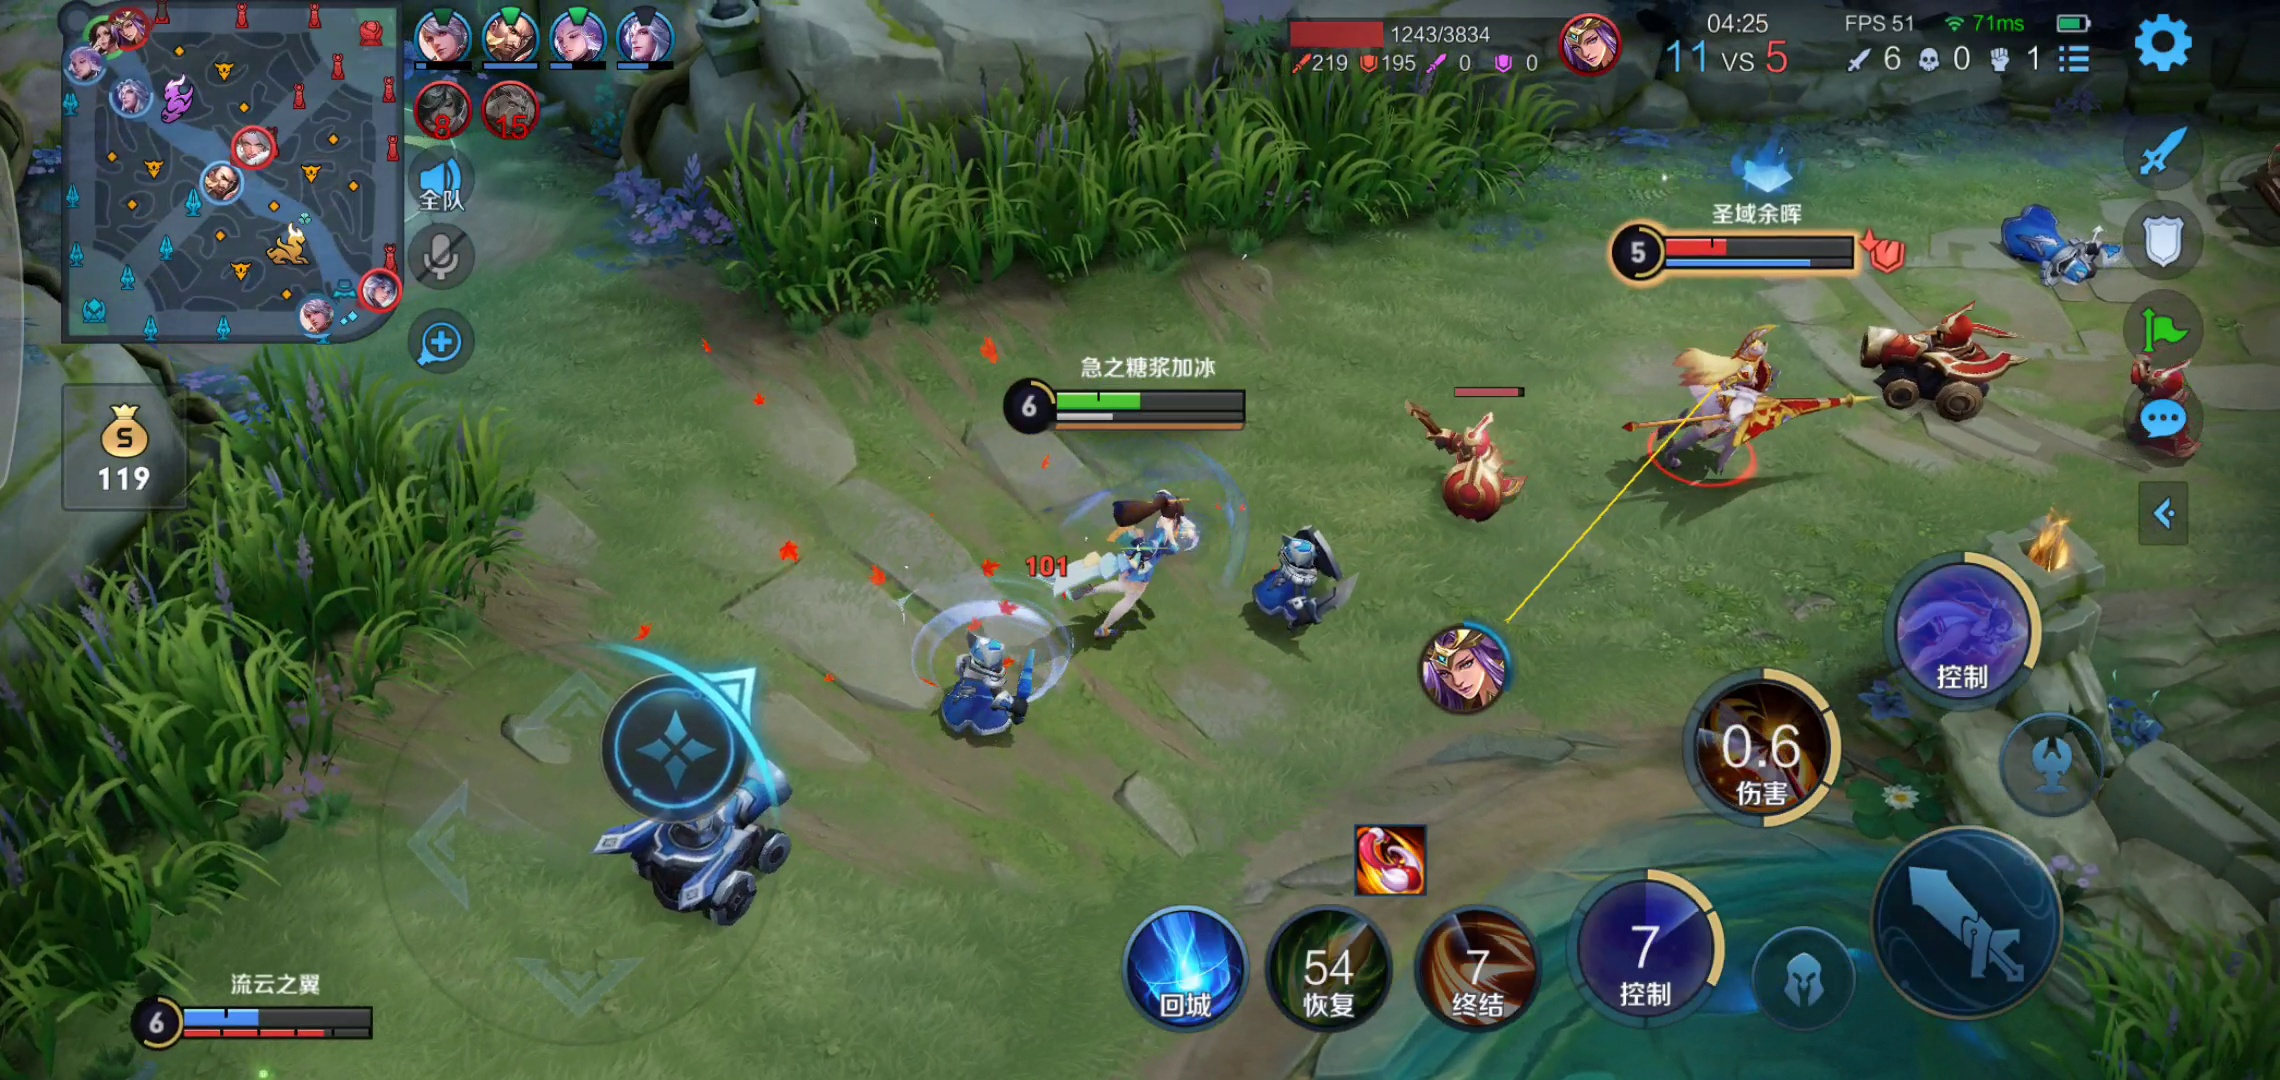grass: (1, 379, 555, 956), (726, 55, 1552, 310), (2060, 898, 2264, 1080)
hero: (1643, 324, 1809, 507), (1045, 488, 1208, 651)
soldier: (596, 759, 835, 946), (1850, 307, 2023, 433), (915, 608, 1050, 751), (1405, 394, 1546, 528), (2119, 343, 2223, 478), (1240, 522, 1357, 637)
